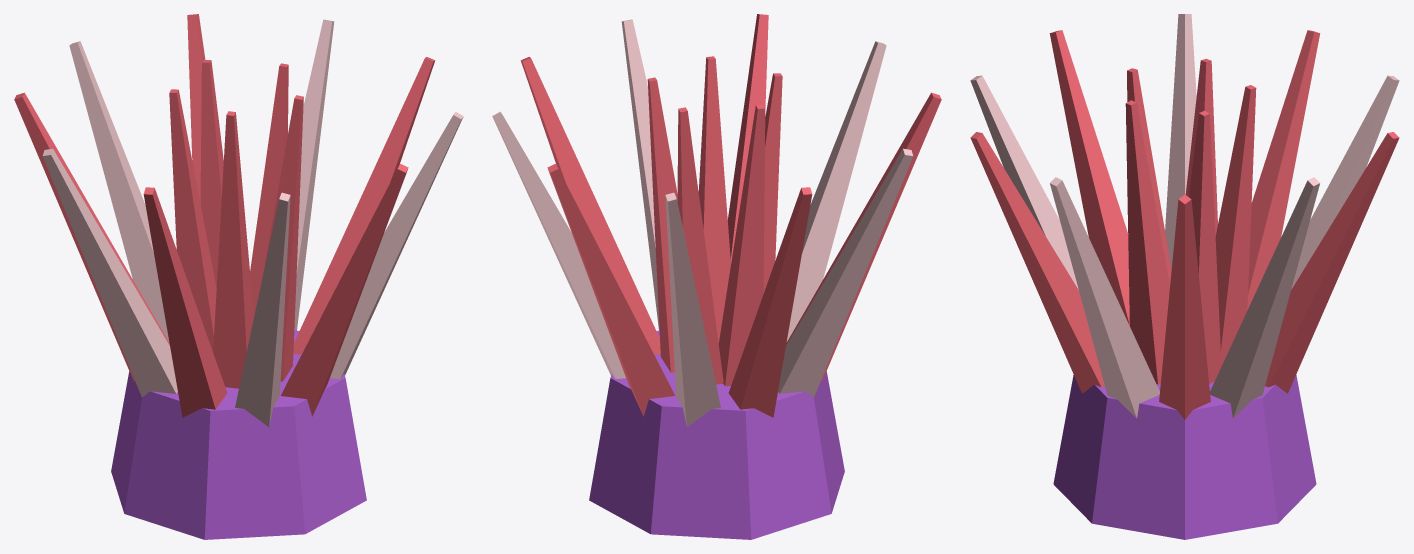
The model's file is sea_anemone.glb.
3 renders of one model, left to right at view 1: azimuth 30°, elevation 25°; view 2: azimuth 150°, elevation 25°; view 3: azimuth 270°, elevation 25°, orthographic.
Parts seen in each view (by area): view 1: sea_anemone; view 2: sea_anemone; view 3: sea_anemone.
Boxes of the visible parts, x1=… form: sea_anemone: x1=14, y1=14, x2=463, y2=539; sea_anemone: x1=492, y1=14, x2=941, y2=539; sea_anemone: x1=970, y1=14, x2=1399, y2=539.
Size of the model in its own units: 0.4109 by 0.4005 by 0.3914.
